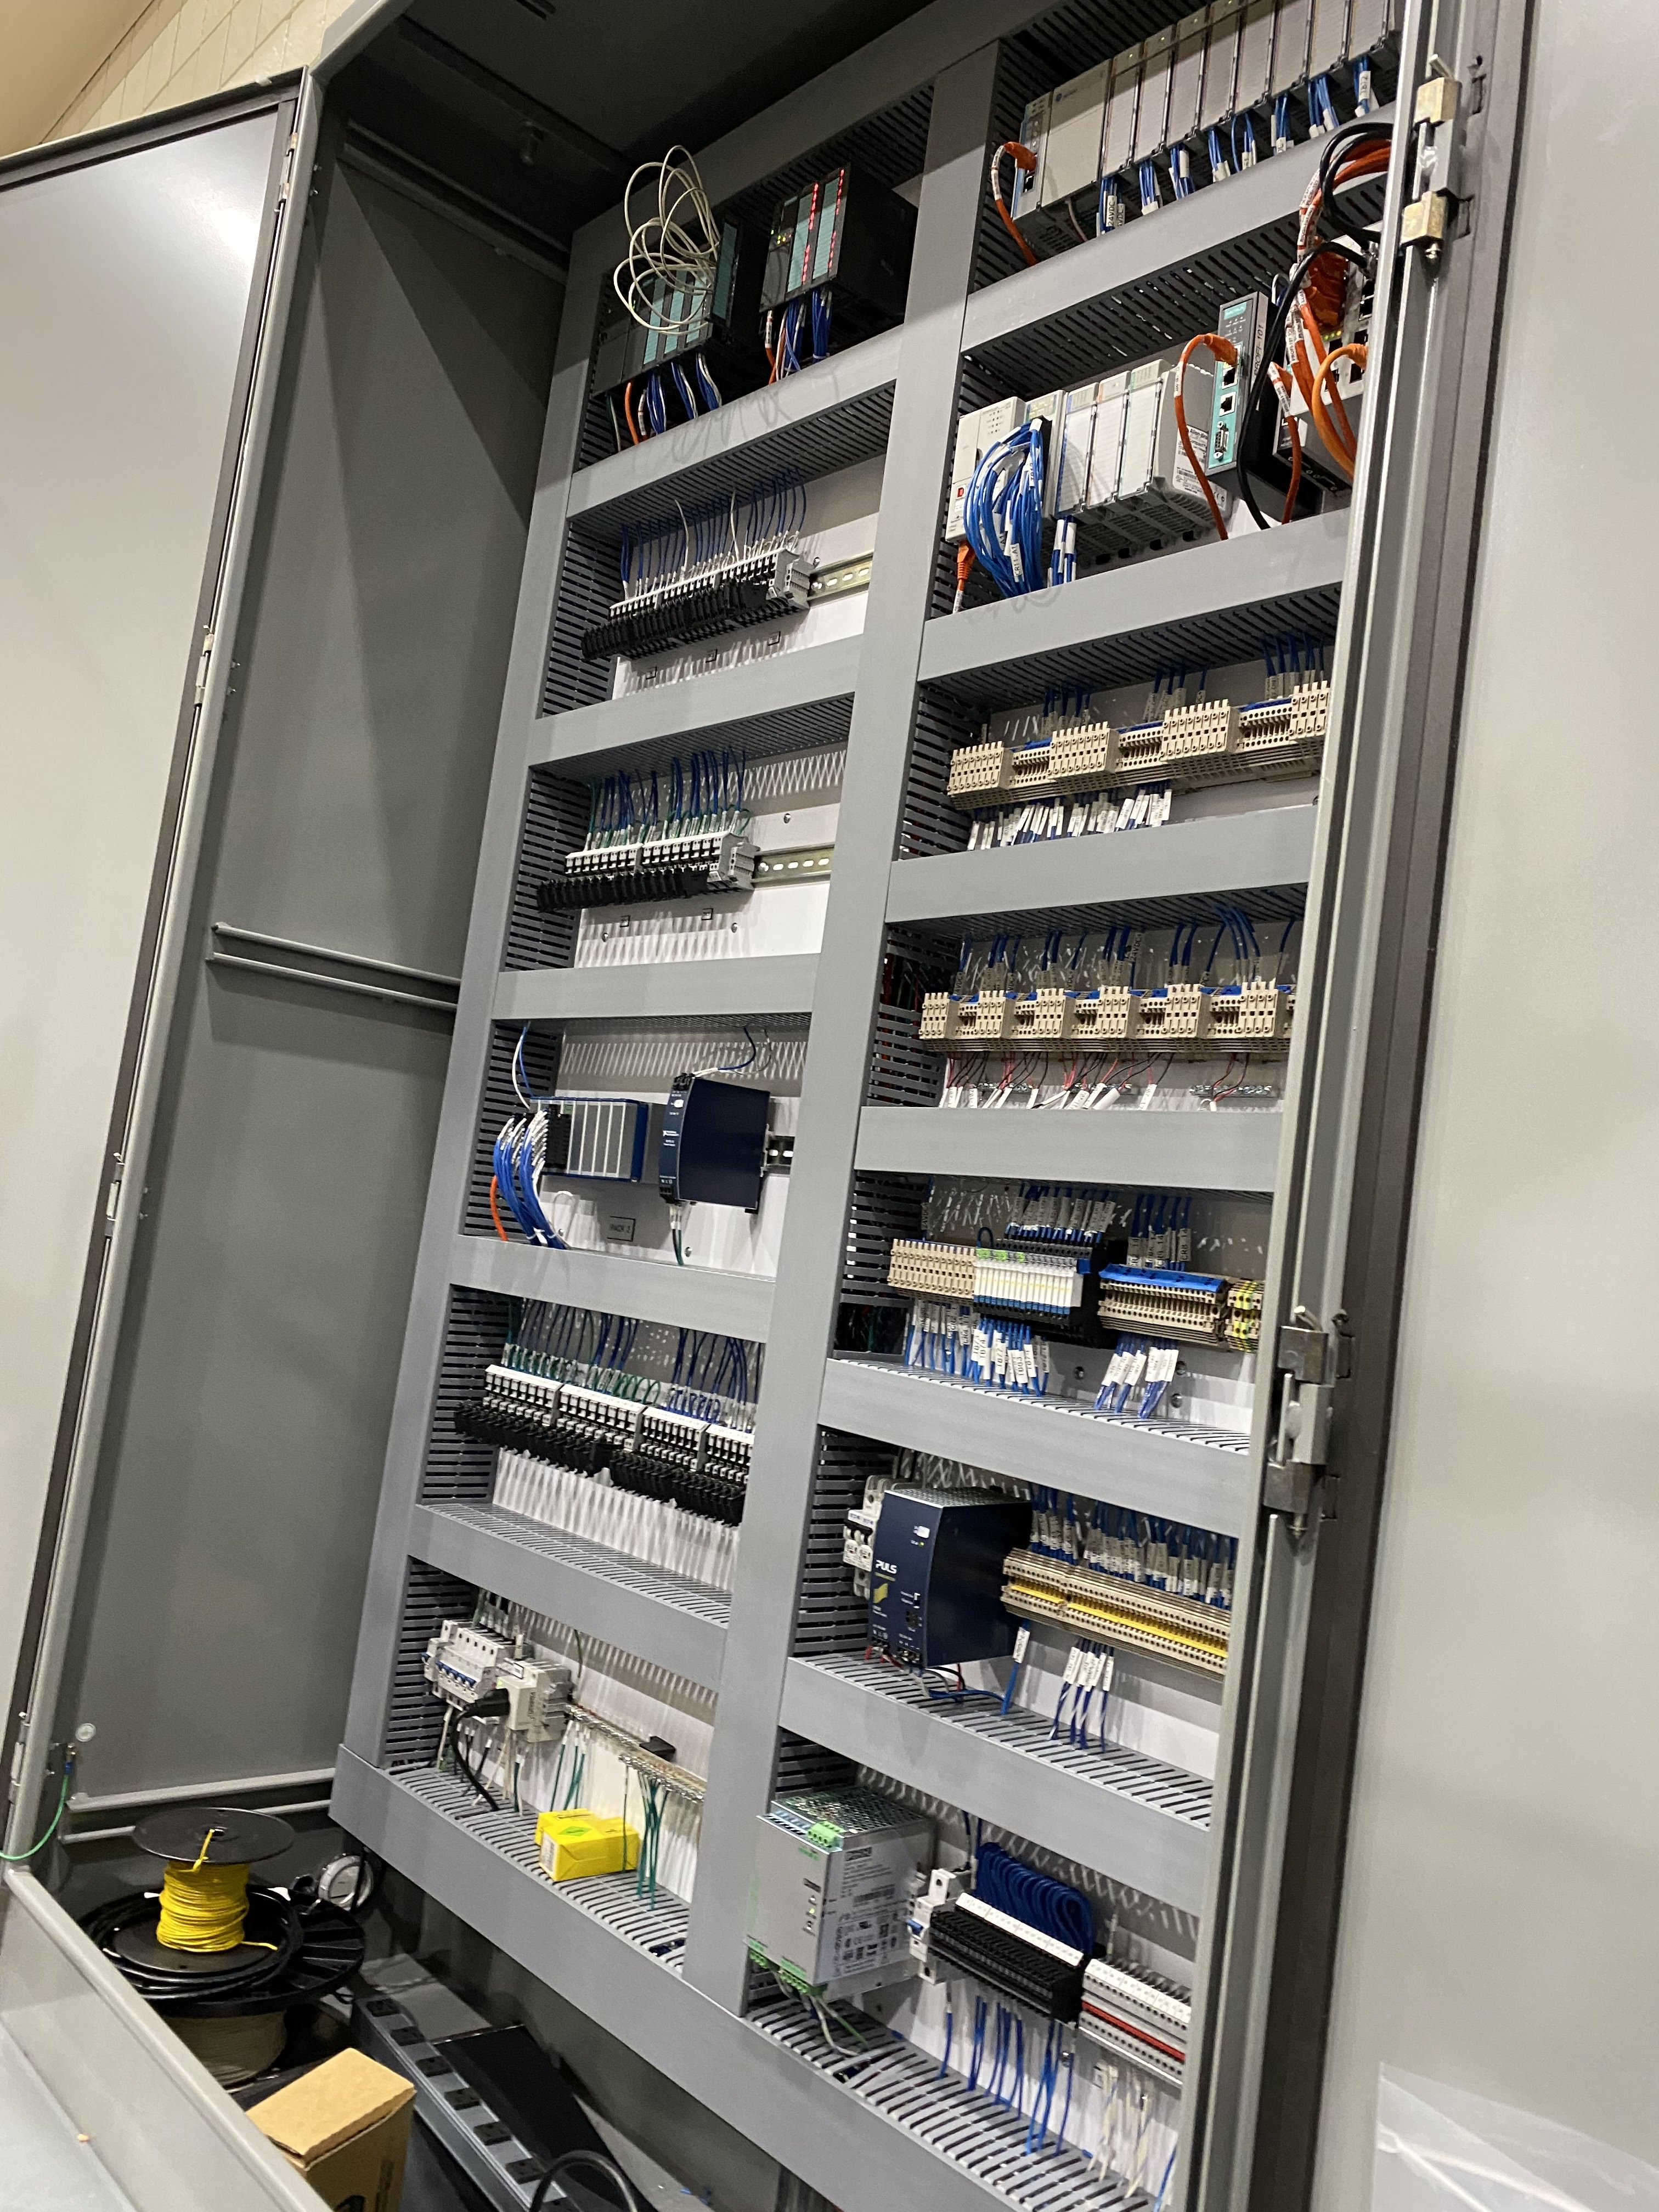AllenBradley: (943, 385, 1023, 545)
Siemens: (617, 258, 662, 390)
